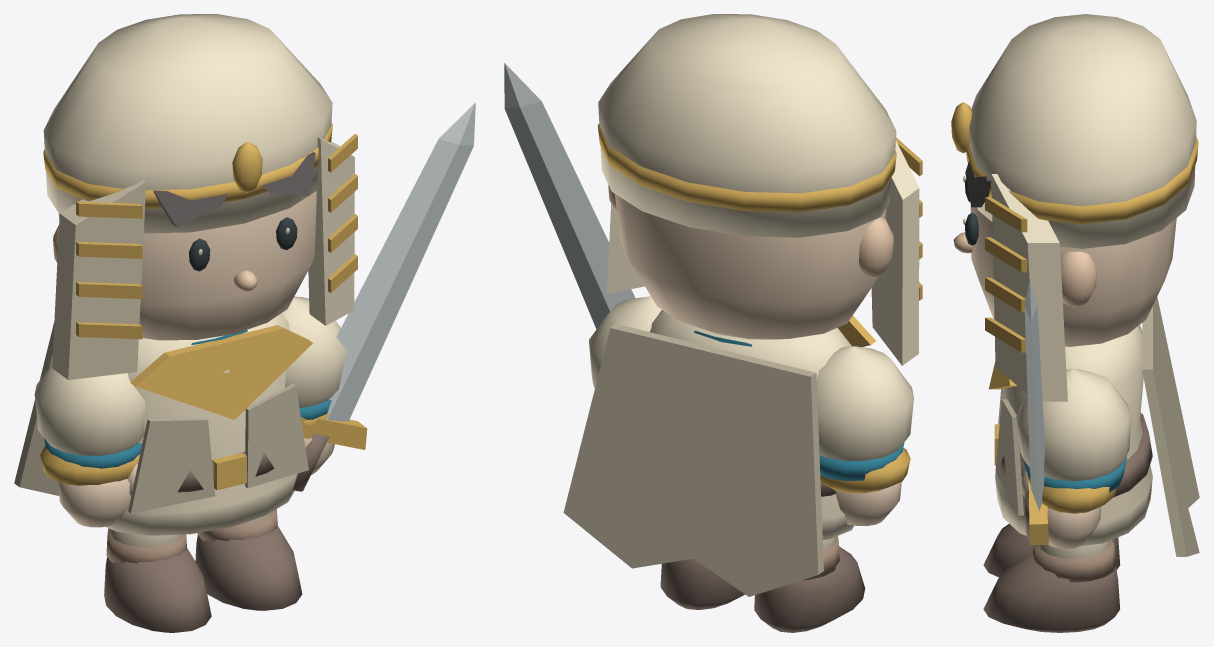
File: giant.glb
3 renders of one model, left to right at view 1: azimuth 30°, elevation 25°; view 2: azimuth 150°, elevation 25°; view 3: azimuth 270°, elevation 25°, orthographic. The views are drawn at different scales.
Visible parts, largest first — view 1: Striped nemes crown, Soft cheek head, Shaped bevel sword, Nemes shoulder wing, Short folded tunic, Broad gold collar, Puff sleeve, Round leather boot, Round leather boot.001, Coat fold, Nemes shoulder wing.001, Coat fold.001 (+19 smaller); view 2: Short scalloped cape, Striped nemes crown, Soft cheek head, Shaped bevel sword, Puff sleeve, Nemes shoulder wing, Nemes front band, Short folded tunic, Round leather boot, Round leather boot.001, Puff sleeve.001, Little mitten (+5 smaller); view 3: Striped nemes crown, Nemes shoulder wing.001, Soft cheek head, Puff sleeve.001, Short folded tunic, Round leather boot.001, Short scalloped cape, Nemes front band, Shaped bevel sword, Coat fold.001, Boot turn cuff.001, Ear.001 (+15 smaller).
Part boxes in pixels (box(x1,y1,x2,y2)): Striped nemes crown: box(43, 14, 332, 233); Soft cheek head: box(58, 191, 316, 340); Shaped bevel sword: box(326, 102, 475, 421); Nemes shoulder wing: box(52, 180, 146, 379); Short folded tunic: box(105, 313, 297, 535); Broad gold collar: box(130, 325, 312, 419); Puff sleeve: box(34, 364, 145, 455); Round leather boot: box(104, 547, 211, 632); Round leather boot.001: box(195, 525, 302, 610); Coat fold: box(128, 418, 215, 513); Nemes shoulder wing.001: box(308, 137, 354, 325); Coat fold.001: box(245, 384, 308, 488); Short scalloped cape: box(563, 324, 823, 596); Striped nemes crown: box(598, 14, 896, 237); Soft cheek head: box(615, 194, 886, 339); Shaped bevel sword: box(504, 63, 635, 329); Puff sleeve: box(816, 346, 913, 460); Nemes shoulder wing: box(871, 140, 919, 365); Nemes front band: box(597, 123, 896, 212); Short folded tunic: box(650, 310, 853, 539); Round leather boot: box(754, 546, 865, 632); Round leather boot.001: box(660, 558, 744, 609); Puff sleeve.001: box(589, 296, 661, 387); Little mitten: box(835, 482, 901, 525); Striped nemes crown: box(969, 14, 1196, 248); Nemes shoulder wing.001: box(991, 174, 1067, 401); Soft cheek head: box(970, 204, 1176, 346); Puff sleeve.001: box(1016, 369, 1131, 481); Short folded tunic: box(995, 325, 1152, 546); Round leather boot.001: box(983, 551, 1119, 632); Short scalloped cape: box(1142, 297, 1199, 556); Nemes front band: box(966, 136, 1198, 224); Shaped bevel sword: box(1024, 278, 1045, 510); Coat fold.001: box(995, 399, 1023, 515); Boot turn cuff.001: box(1032, 540, 1116, 582); Ear.001: box(1060, 251, 1097, 307).
Size of the model in its own units: 1.65 by 2.16 by 0.8648.
